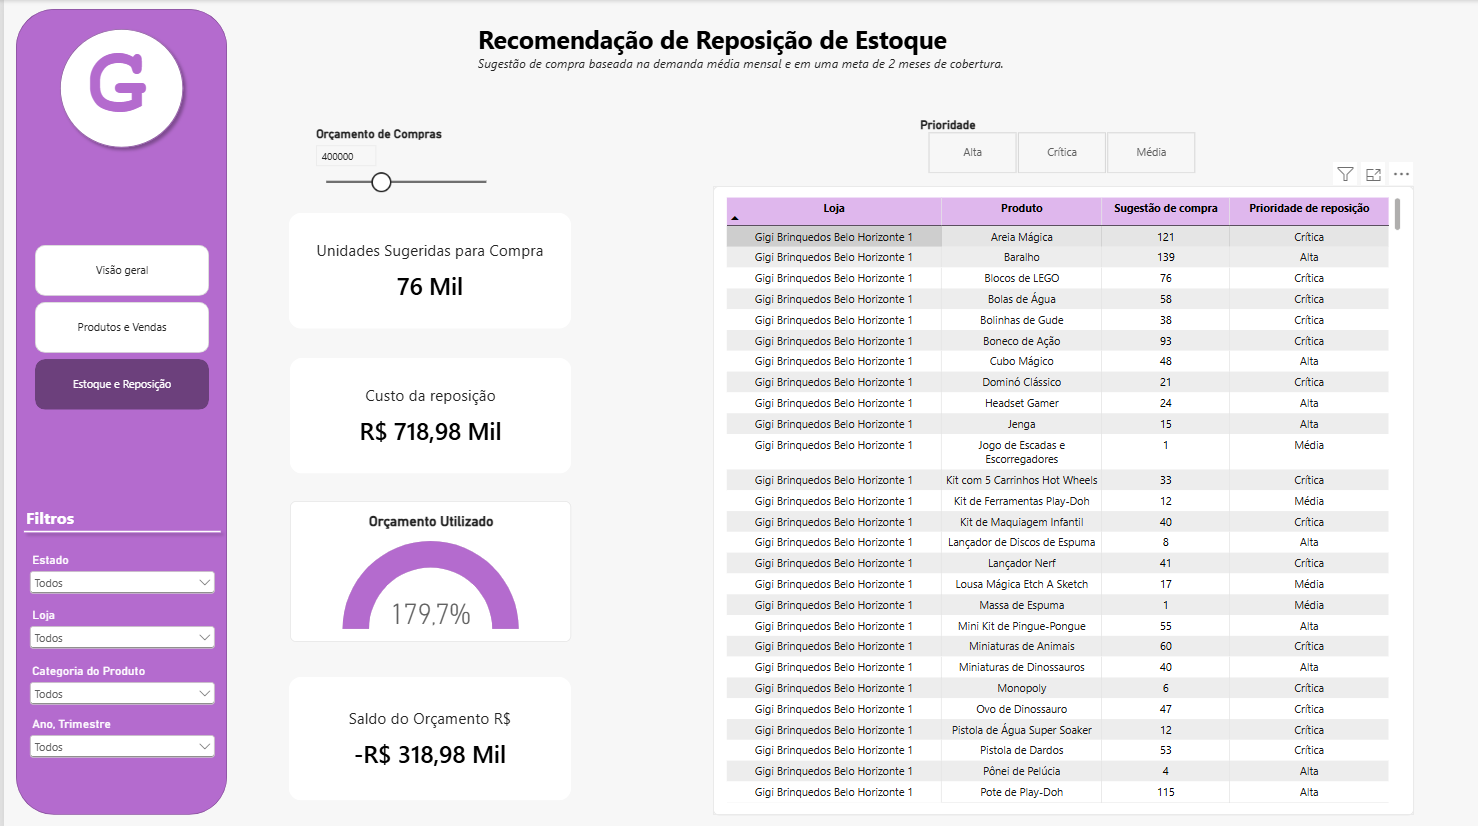

The dashboard page shown, as its layout file describes it:
{"tool":"powerbi","page":{"name":"Estoque e Reposição","canvas":[1920,1080],"ordinal":2},"visuals":[{"type":"shape","box":[16,12,274,1046],"z":0},{"type":"shape","box":[64,28,178,172],"z":1000},{"type":"textbox","box":[108,38,92,150],"z":2000},{"type":"pageNavigator","box":[40,318.6,226,216],"z":3000},{"type":"slicer","fields":{"Values":["lojas_processed.Estado_Loja"]},"box":[28.3,716.7,250,61.7],"z":4000},{"type":"textbox","box":[28.6,657.1,113.3,33.3],"z":5000},{"type":"shape","box":[17.1,662.9,273.3,53.3],"z":6000},{"type":"slicer","fields":{"Values":["produtos_processed.Categoria_Produto"]},"box":[28.3,860,250,70],"z":7000},{"type":"slicer","fields":{"Values":["calendario_processed.Data.Variation.Hierarquia de datas.Ano","calendario_processed.Data.Variation.Hierarquia de datas.Trimestre"]},"box":[28.3,930,250,58.2],"z":8000},{"type":"textbox","box":[615,28.3,690,75],"z":9000},{"type":"slicer","fields":{"Values":["lojas_processed.Nome_Loja"]},"box":[28.3,788.3,250,63.3],"z":10000},{"type":"slicer","fields":{"Values":["Orçamento de Compras.Orçamento de Compras"]},"box":[396.7,163.3,247.1,145.7],"z":11000},{"type":"gauge","title":"Orçamento Utilizado","fields":{"MaxValue":["Medidas.Máximo Orçamento %"],"Y":["Medidas.% Orçamento Comprometido"]},"box":[371.7,650,365,183.3],"z":12000},{"type":"cardVisual","fields":{"Data":["Medidas.Custo da reposição"]},"box":[371.7,465,365.7,150],"z":13000},{"type":"tableEx","fields":{"Values":["lojas_processed.Nome_Loja","produtos_processed.Nome_Produto","Medidas.Sugestão de compra","Medidas.Prioridade reposição"]},"box":[920,241.7,910,816.7],"z":14000},{"type":"slicer","fields":{"Values":["Filtro Prioridade.Prioridade"]},"box":[1181.7,151.7,384.3,72.9],"z":15000},{"type":"cardVisual","fields":{"Data":["Medidas.Saldo do Orçamento"]},"box":[370,878.3,366,160],"z":16000},{"type":"cardVisual","fields":{"Data":["Medidas.Unidades Sugeridas para Compra"]},"box":[370,276.7,366.7,150],"z":16001}]}

Visuals, with their boxes on the page's 1920x1080 design canvas (x1, y1, x2, y2). These are canvas units, not pixel positions in the 1478x826 screenshot, which may show the page scaled, cropped or inside an application window:
shape: bbox(16, 12, 290, 1058)
shape: bbox(64, 28, 242, 200)
textbox: bbox(108, 38, 200, 188)
pageNavigator: bbox(40, 319, 266, 535)
slicer - lojas_processed.Estado_Loja: bbox(28, 717, 278, 778)
textbox: bbox(29, 657, 142, 690)
shape: bbox(17, 663, 290, 716)
slicer - produtos_processed.Categoria_Produto: bbox(28, 860, 278, 930)
slicer - calendario_processed.Data.Variation.Hierarquia de datas.Ano x calendario_processed.Data.Variation.Hierarquia de datas.Trimestre: bbox(28, 930, 278, 988)
textbox: bbox(615, 28, 1305, 103)
slicer - lojas_processed.Nome_Loja: bbox(28, 788, 278, 852)
slicer - Orçamento de Compras.Orçamento de Compras: bbox(397, 163, 644, 309)
"Orçamento Utilizado" gauge: bbox(372, 650, 737, 833)
cardVisual - Medidas.Custo da reposição: bbox(372, 465, 737, 615)
tableEx - lojas_processed.Nome_Loja x produtos_processed.Nome_Produto: bbox(920, 242, 1830, 1058)
slicer - Filtro Prioridade.Prioridade: bbox(1182, 152, 1566, 225)
cardVisual - Medidas.Saldo do Orçamento: bbox(370, 878, 736, 1038)
cardVisual - Medidas.Unidades Sugeridas para Compra: bbox(370, 277, 737, 427)
